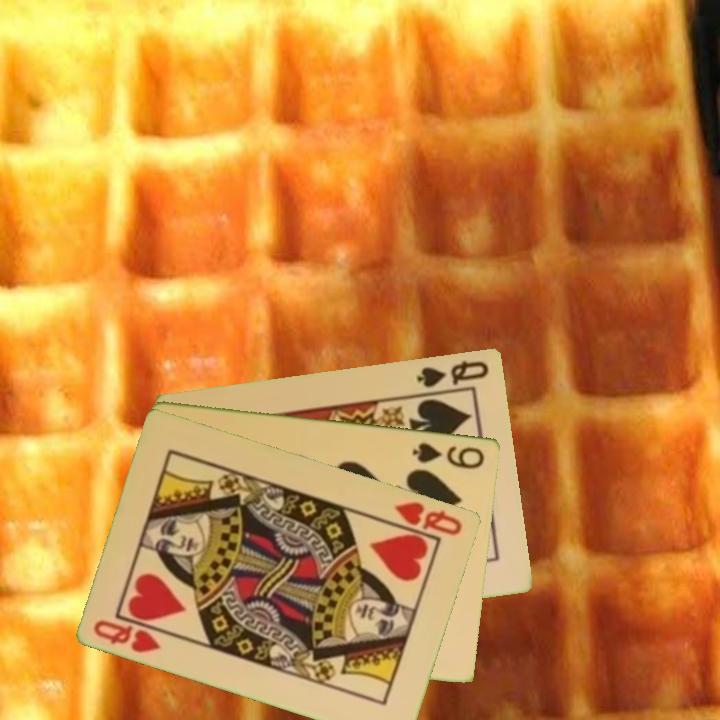9s: (409, 438, 488, 472)
Qh: (391, 498, 466, 538), (90, 616, 165, 656)
Qs: (413, 356, 492, 390)
